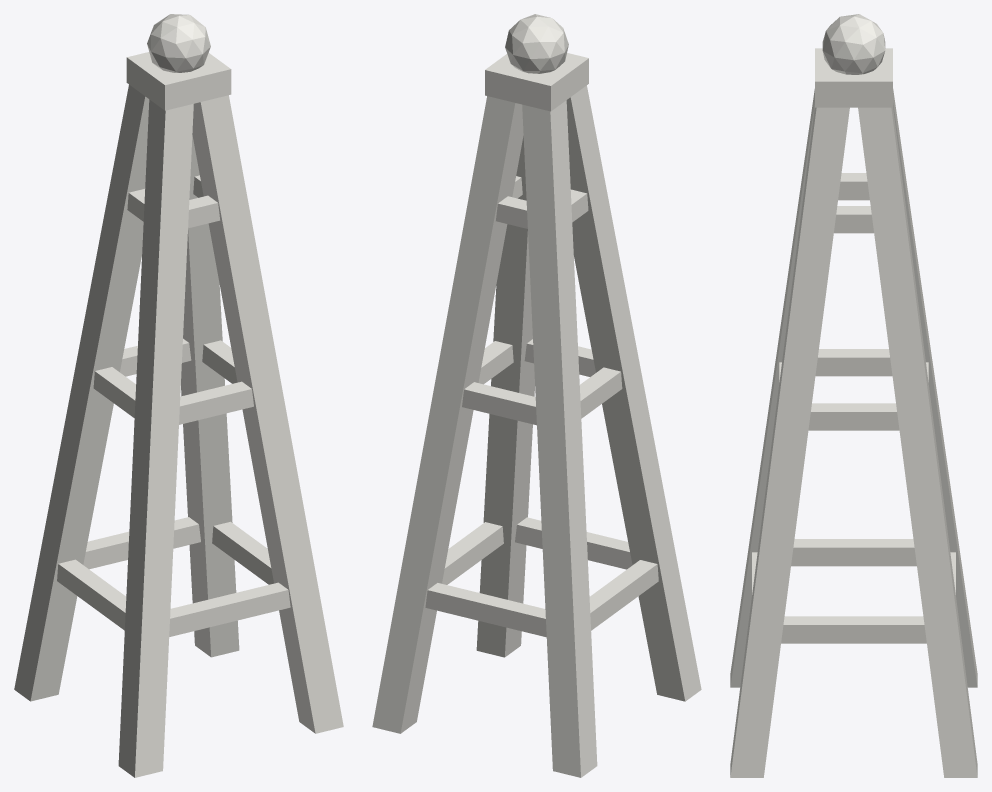
File: FMS_Garden_Obelisk_White.fbx
The picture shows the model from 3 angles, left to right: view 1: azimuth 30°, elevation 25°; view 2: azimuth 150°, elevation 25°; view 3: azimuth 270°, elevation 25°; orthographic projection. The views are drawn at different scales.
Visible parts, largest first — view 1: FMS_Garden_Obelisk_White_Body; view 2: FMS_Garden_Obelisk_White_Body; view 3: FMS_Garden_Obelisk_White_Body.
Boxes of the visible parts, left/top/right/bottom form: FMS_Garden_Obelisk_White_Body: left=14, top=14, right=343, bottom=777; FMS_Garden_Obelisk_White_Body: left=372, top=14, right=701, bottom=777; FMS_Garden_Obelisk_White_Body: left=730, top=14, right=977, bottom=777.
Bounding box in the file's own units: 0.6 × 1.9 × 0.6.
1 material, 1 textured.
